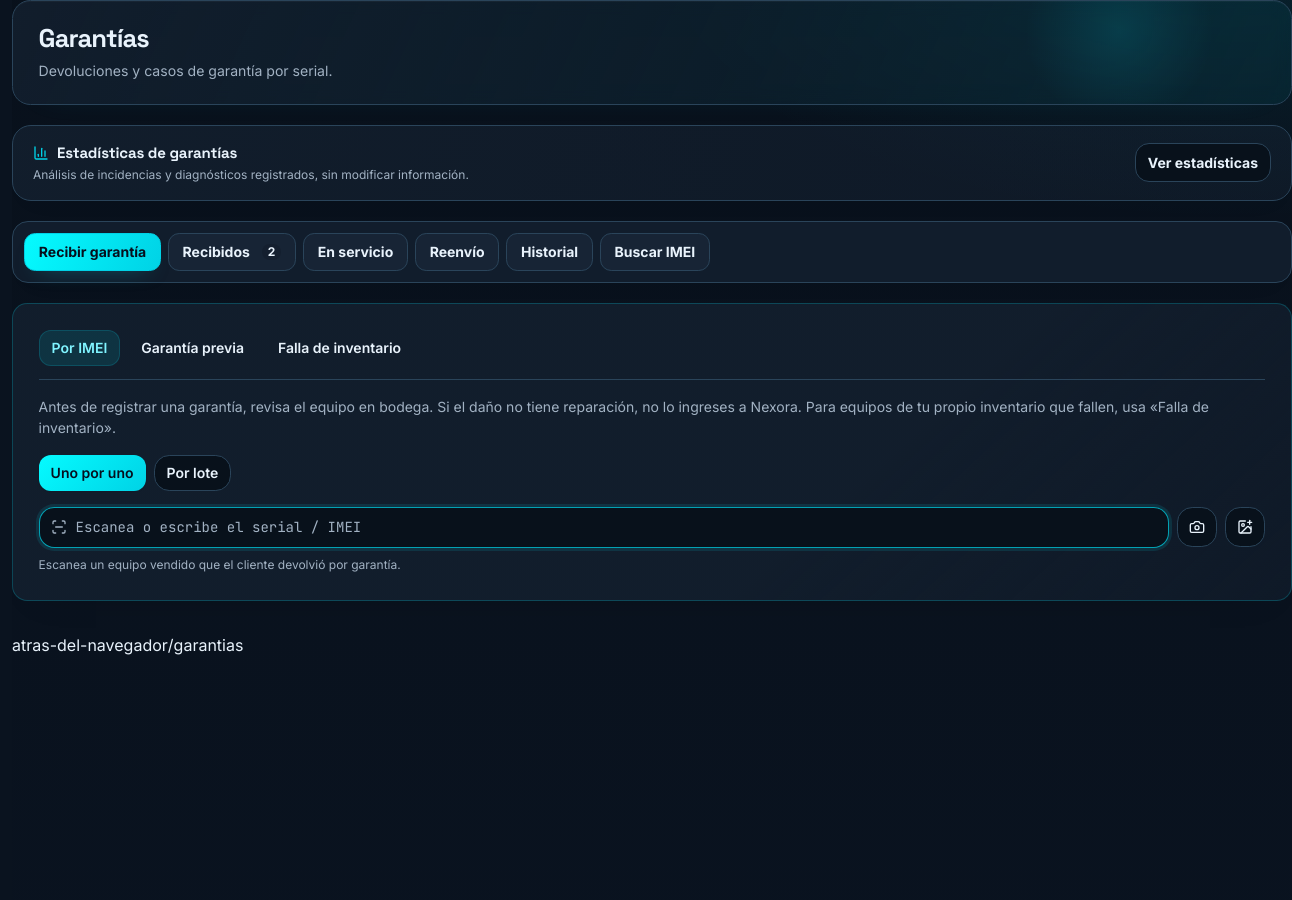
Test: Garantías · Recibidos › todos los lotes empiezan cerrados (sin tarjetas) y se abren y cierran al pulsarlos
This screenshot has width=1292, height=900.
Click the button "Recibidos 2".
click(232, 252)  # box [168,233,296,271]
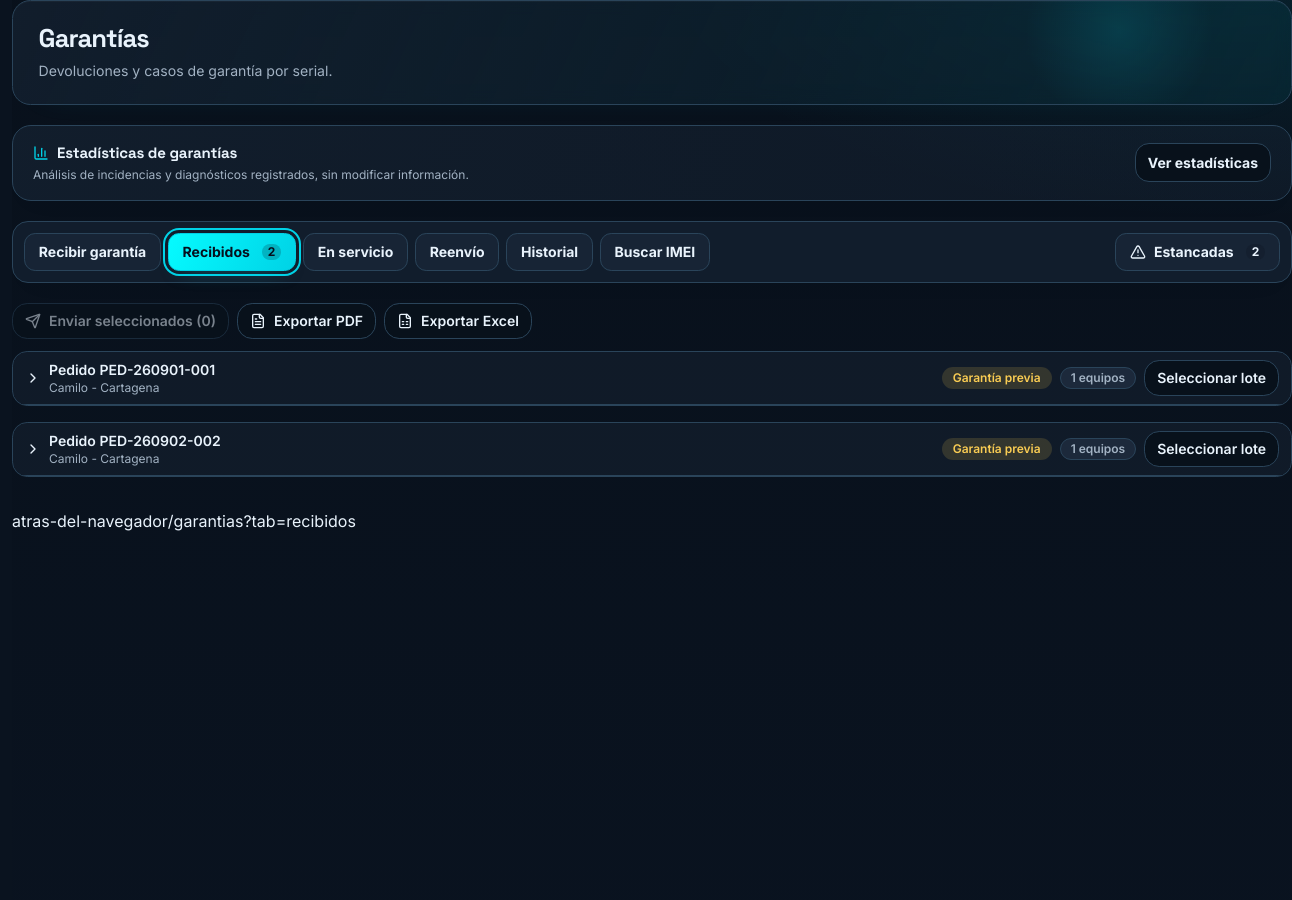
Check: the text "GAR-111" is not shown
Click the button "Pedido PED-260901-001 Camilo - Cartagena".
click(132, 370)  # box [25,360,934,396]
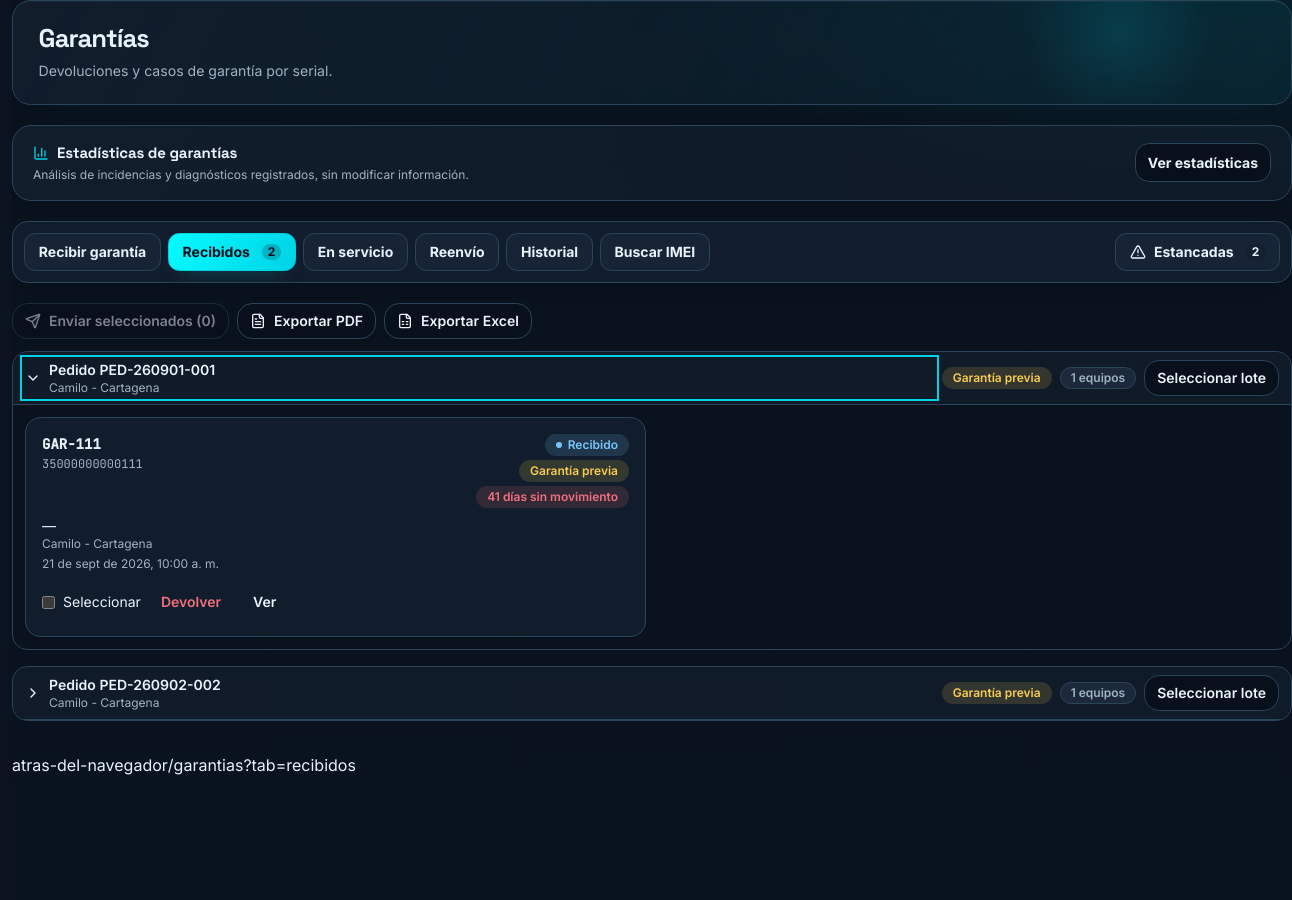
Check: the button "Pedido PED-260901-001 Camilo - Cartagena" is expanded
Check: the text "GAR-111" is shown, box [42,435,101,453]
Click the button "Pedido PED-260901-001 Camilo - Cartagena".
click(132, 370)  # box [25,360,934,396]
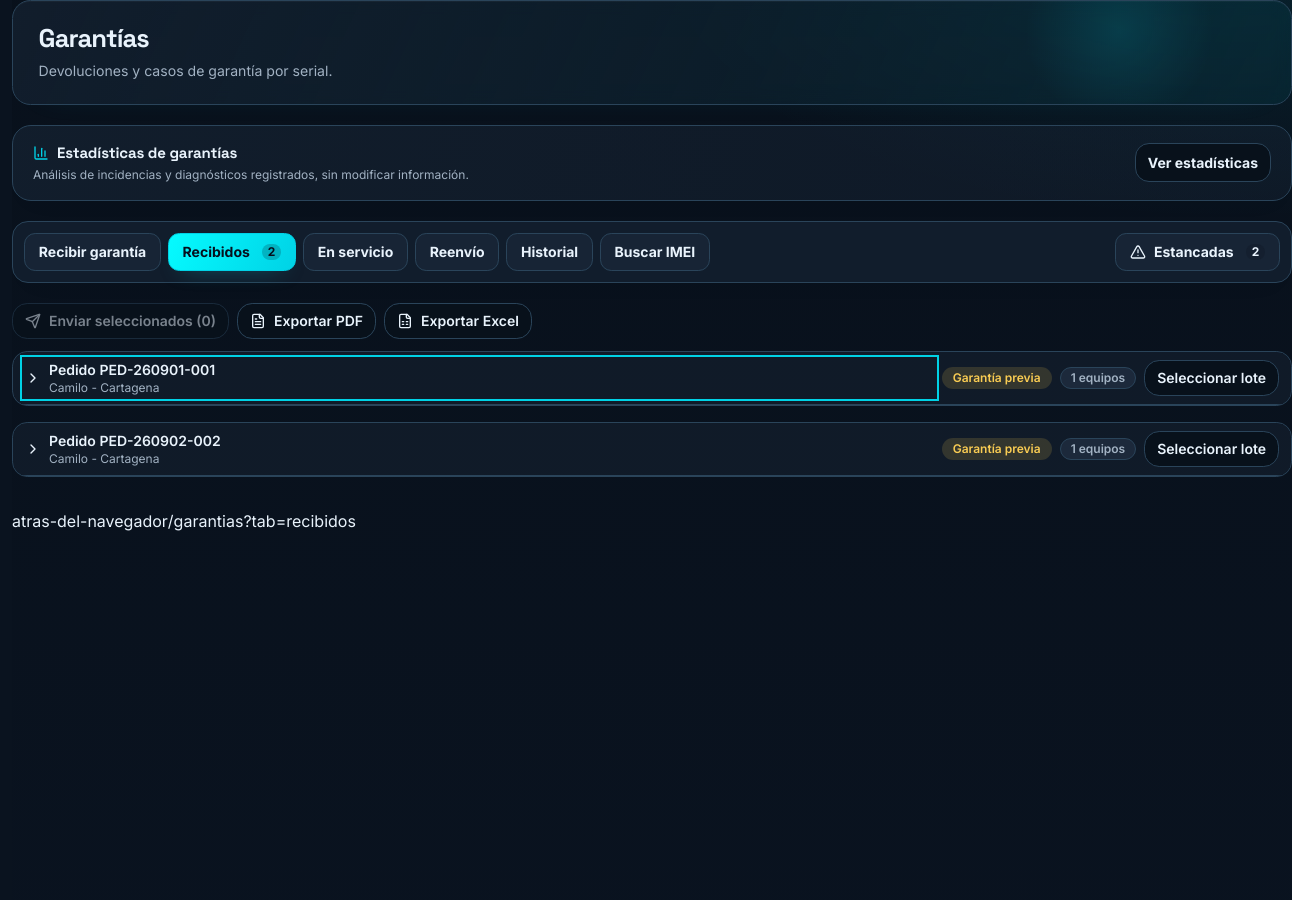
Check: the text "GAR-111" is gone
